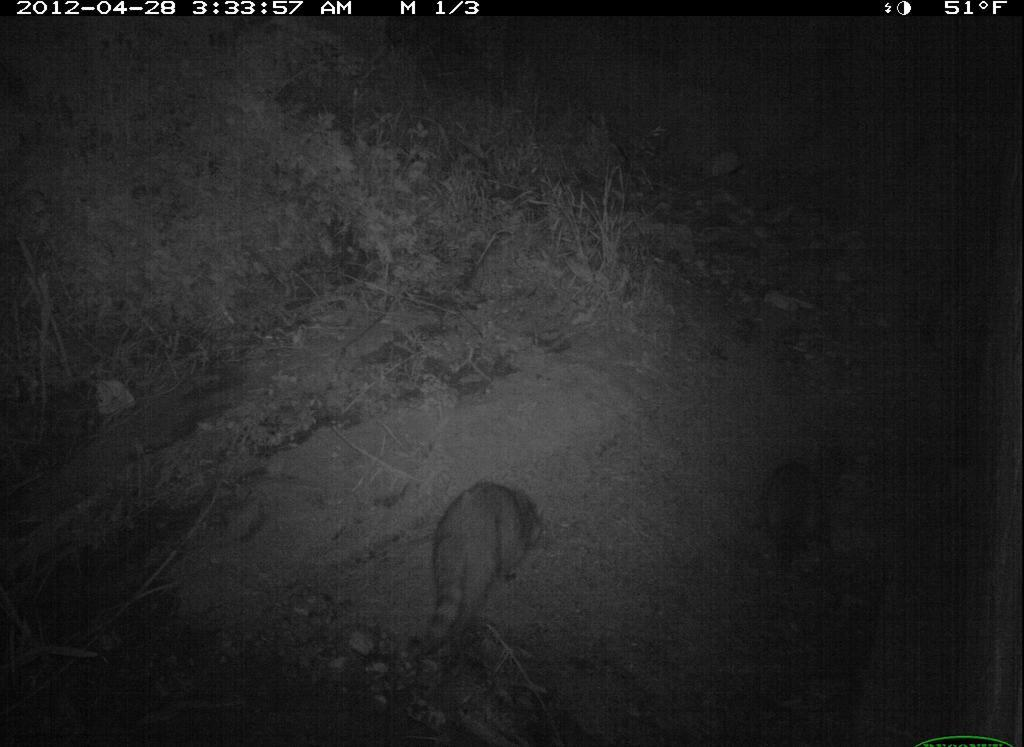raccoon: (387, 468, 564, 676)
